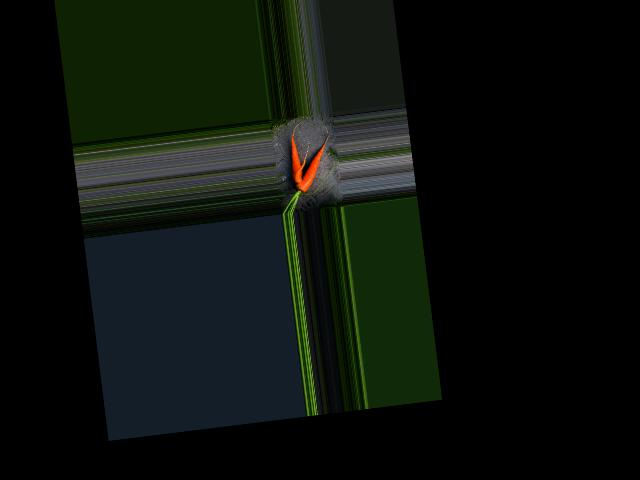carrot: (280, 124, 310, 187)
